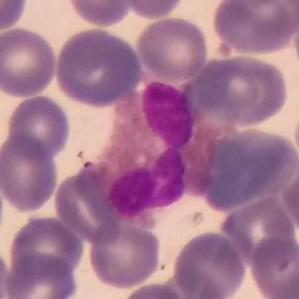Eosinophil: (91, 81, 218, 223)
Platelets: (213, 38, 235, 59)
RBC: (199, 125, 298, 211), (52, 26, 145, 109), (193, 53, 291, 128), (219, 194, 298, 265), (85, 220, 164, 290), (52, 169, 124, 245), (172, 228, 247, 299), (6, 214, 87, 278), (134, 15, 210, 82), (0, 132, 60, 214), (210, 1, 297, 56), (4, 93, 73, 161), (0, 25, 59, 99), (6, 252, 84, 298), (247, 234, 299, 299), (150, 268, 228, 298), (64, 0, 135, 28), (246, 0, 297, 37), (280, 160, 299, 236), (116, 0, 188, 20), (117, 280, 191, 299), (0, 0, 29, 32)
